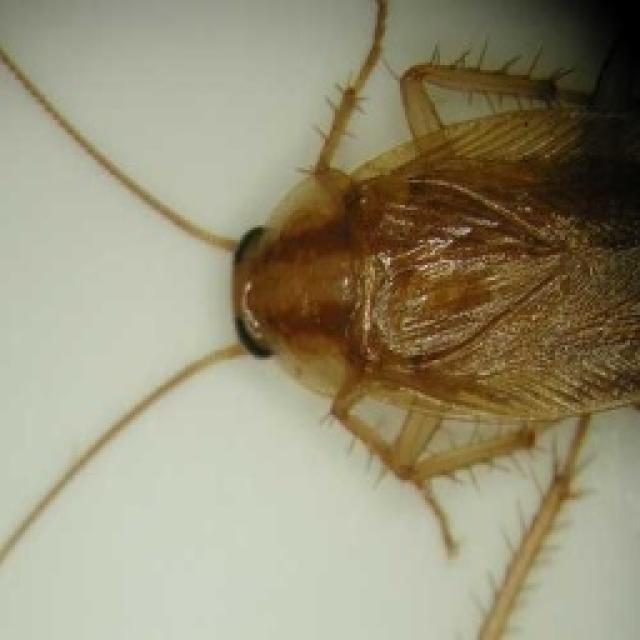cockroach: (3, 6, 637, 635), (121, 6, 640, 574)
